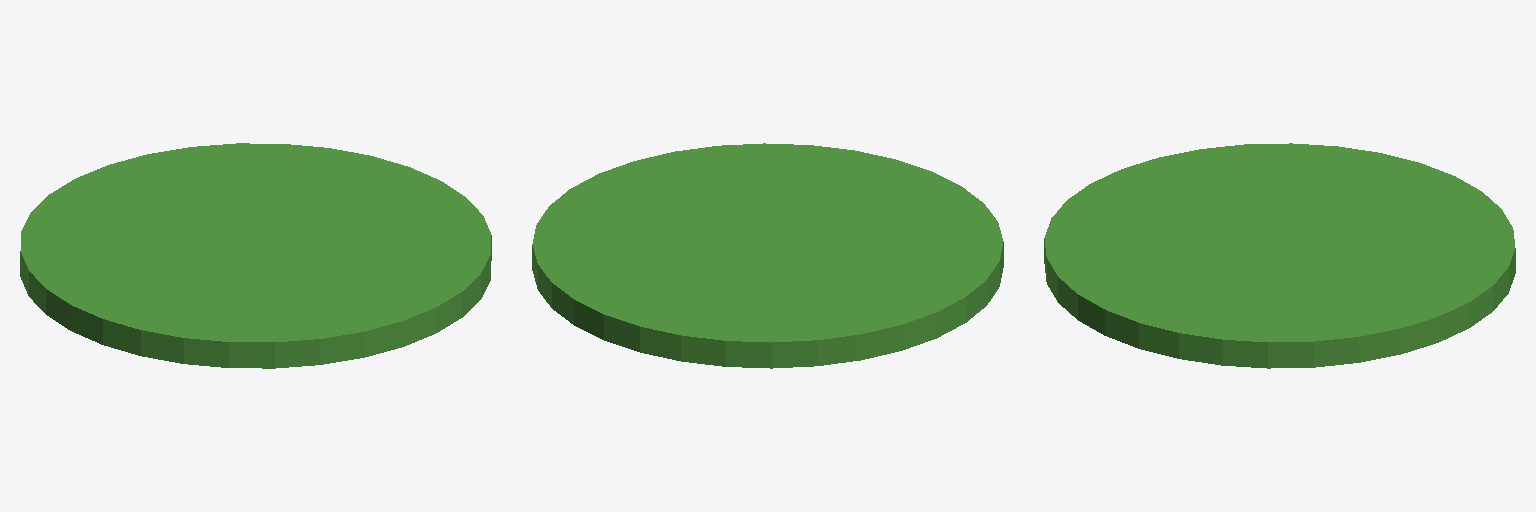
The robot description file, URDF, robot "Interference":
<?xml version="1.0"?>
<robot name="Interference">
  <link name="baseLink">
    <inertial>
      <origin xyz="0.0 0.0 0.0" rpy="0.0 0.0 0.0"/>
      <inertia ixx="0.0" ixy="0.0" ixz="0.0" iyy="0.0" iyz="0.0" izz="0.0"/>
      <mass value="0"/>
    </inertial>
    <visual>
      <origin xyz="0.0 0.0 0.0" rpy="0.0 0.0 -0.638665132549122"/>
      <geometry>
        <cylinder radius="0.08201828847896121" length="0.01"/>
      </geometry>
      <material name="color">
        <color rgba="0.37933032768991726 0.6566314117463181 0.3060967190490985 1.0"/>
      </material>
    </visual>
  </link>
</robot>

--- Facts derived from the render (not from the file) ---
The picture shows the robot from 3 angles, left to right: view 1: azimuth 30°, elevation 25°; view 2: azimuth 150°, elevation 25°; view 3: azimuth 270°, elevation 25°; orthographic projection.
Model Interference with 1 links and 0 joints (none), rooted at baseLink, posed all joints at 0.
Links seen in each view (by area): view 1: baseLink; view 2: baseLink; view 3: baseLink.
Boxes of the visible links, x1,y1,x2,y2 form: baseLink: [20, 143, 491, 368]; baseLink: [532, 143, 1003, 368]; baseLink: [1044, 143, 1515, 368].
Bounding box of the posed robot: 0.1638 × 0.1638 × 0.01 m (x, y, z).
Geometry: primitives only (box / cylinder / sphere), no mesh files.
